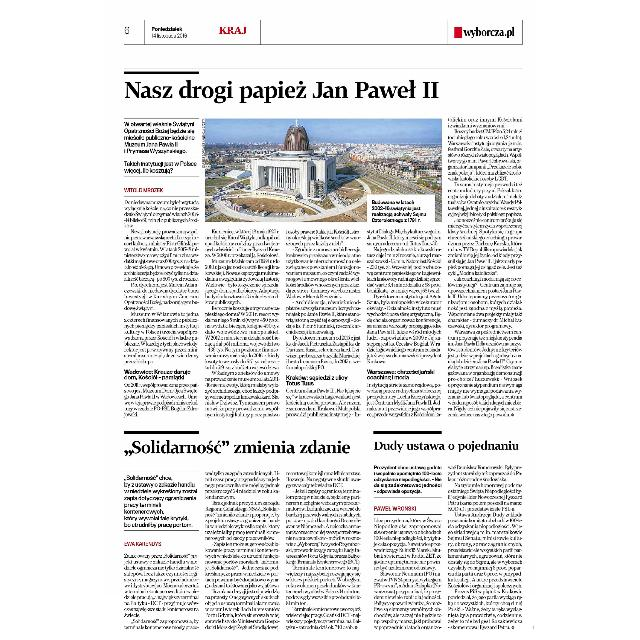article: (122, 69, 524, 421), (119, 430, 363, 632), (371, 429, 525, 633)
